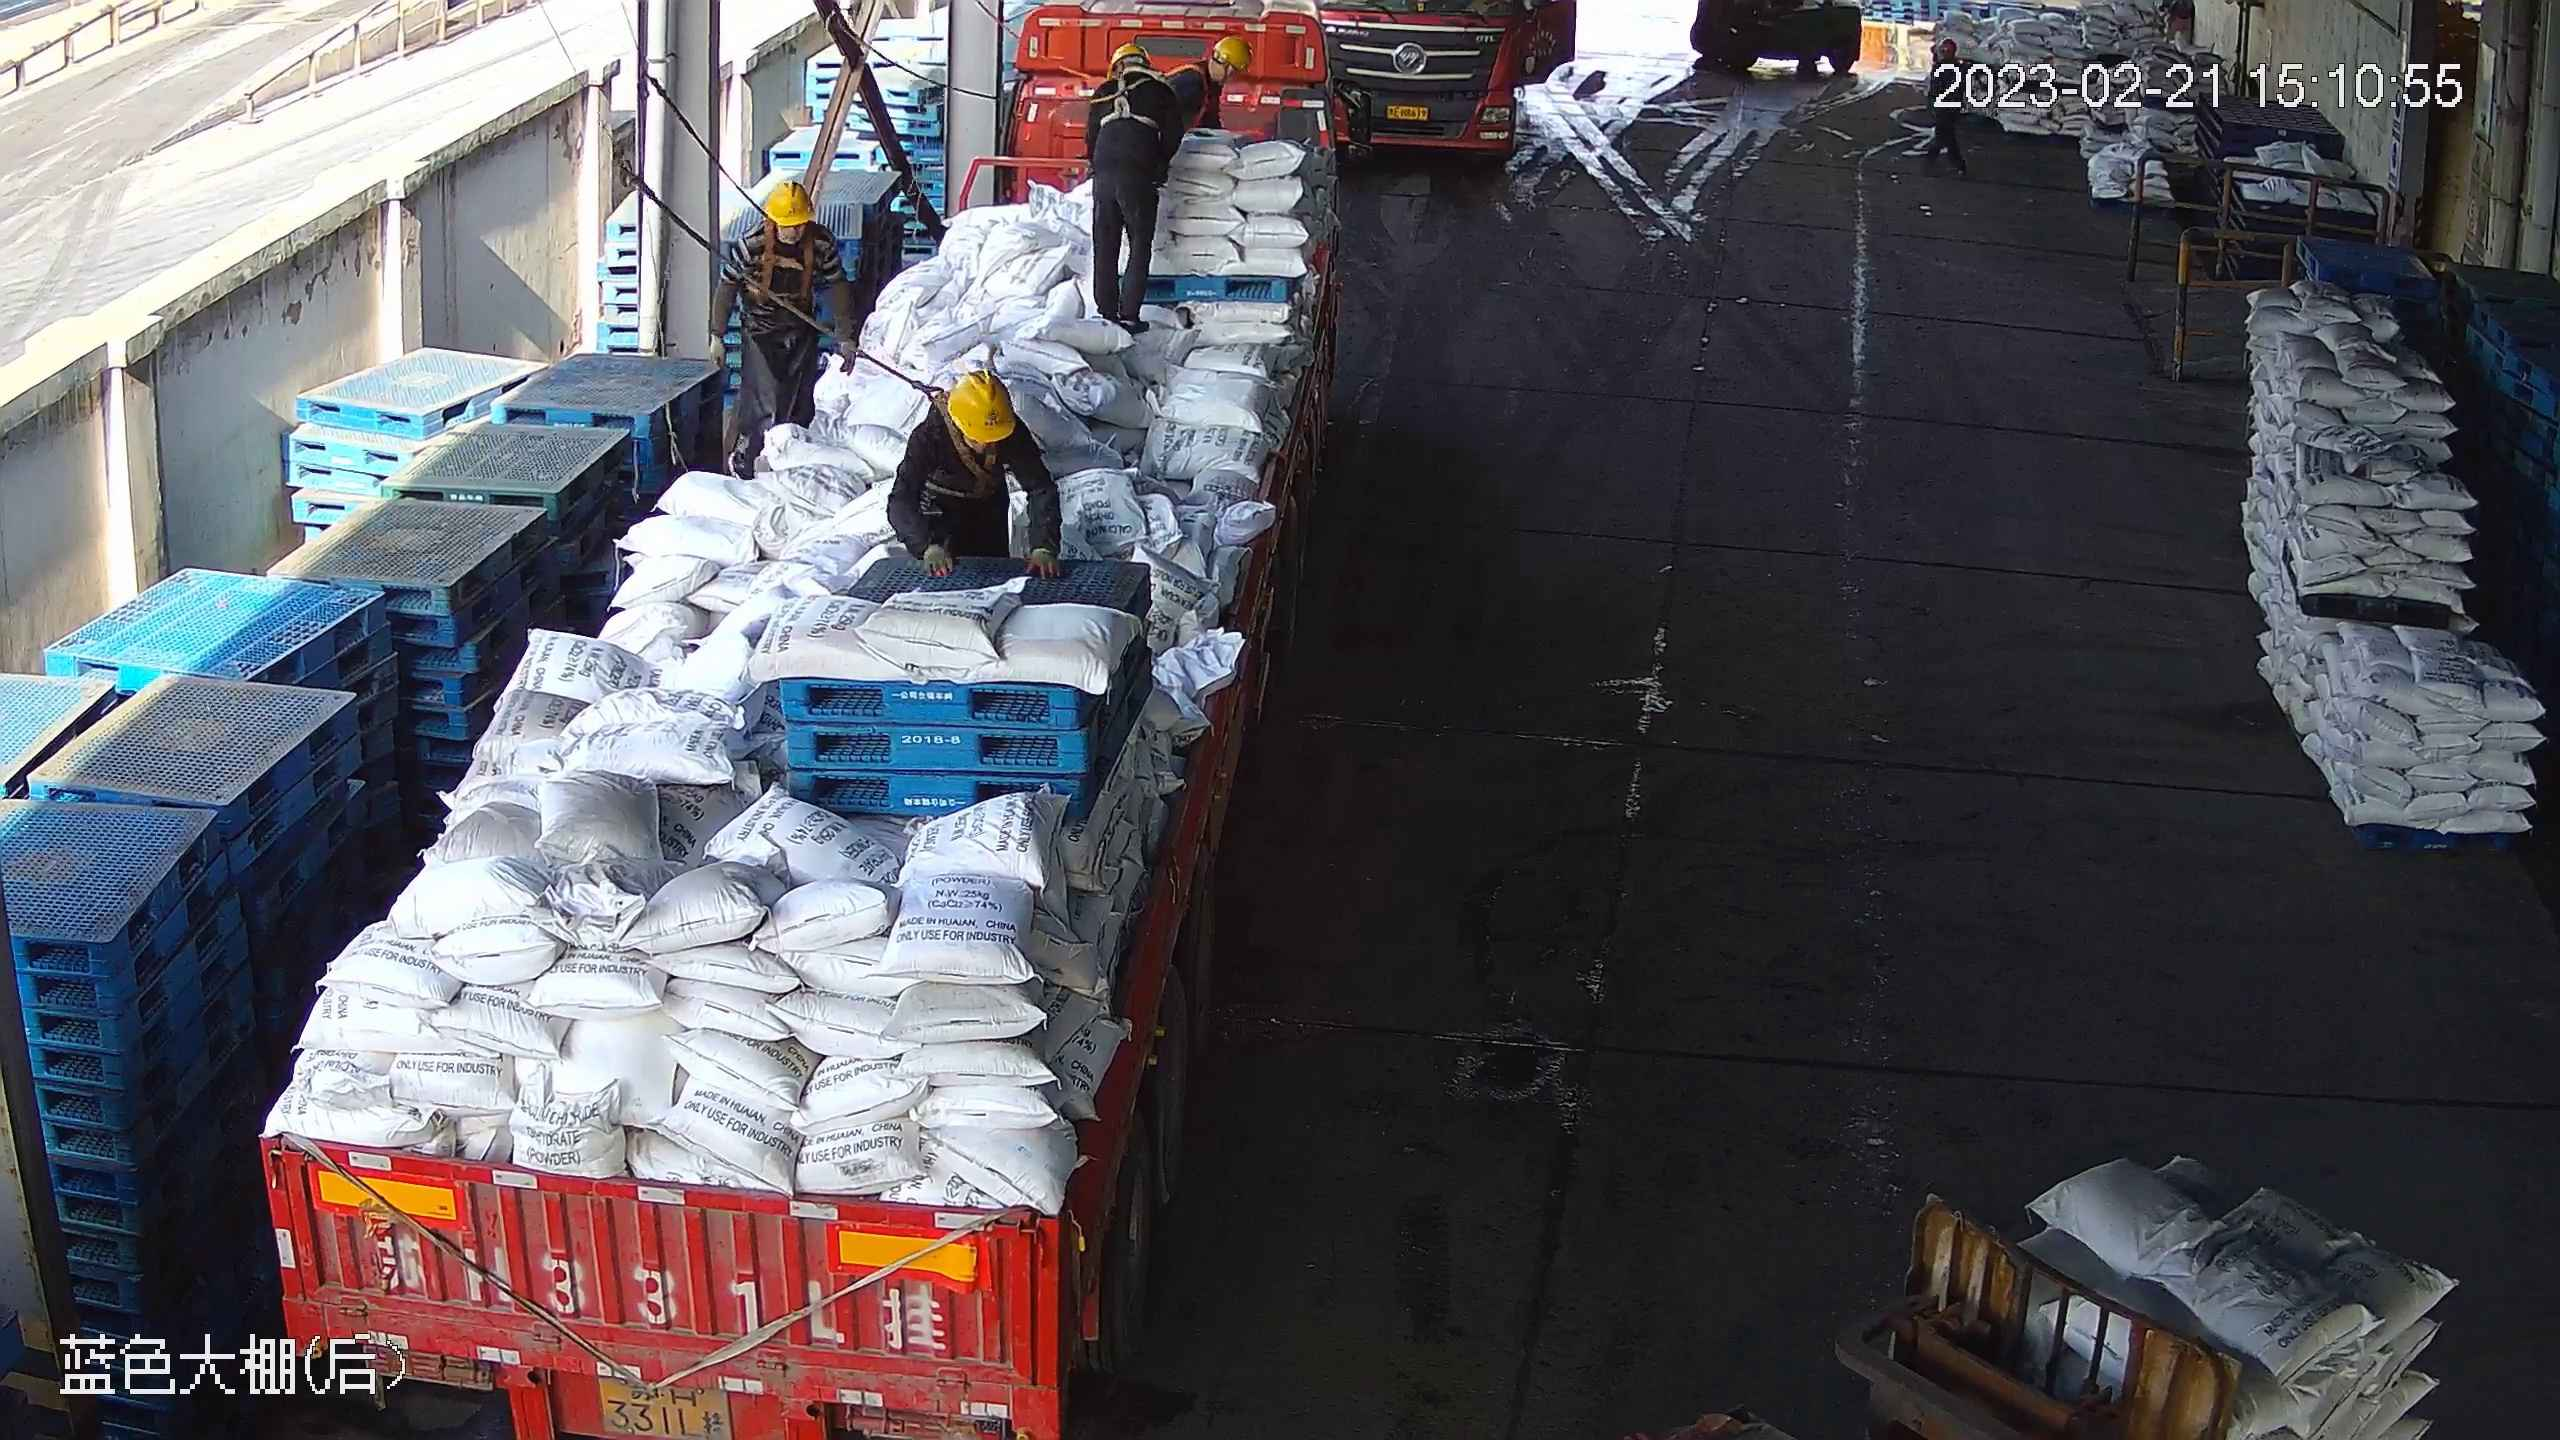belt: (708, 181, 858, 481), (895, 378, 1007, 499), (739, 219, 814, 304), (1100, 65, 1177, 130), (1163, 62, 1210, 129)
head: (909, 370, 1034, 478), (729, 181, 841, 271), (1089, 43, 1176, 118), (1175, 36, 1254, 108)
helmet: (946, 372, 1017, 443), (763, 181, 818, 228), (1212, 34, 1255, 73), (1107, 42, 1152, 81)
people: (886, 370, 1064, 580), (1084, 42, 1185, 336)
truck: (262, 6, 1370, 1440), (1315, 2, 1579, 162)
